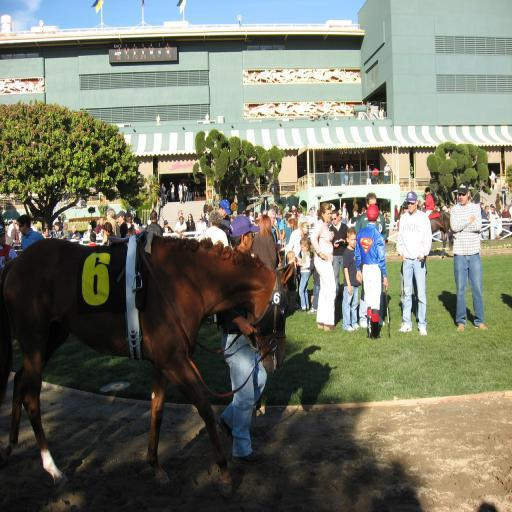Horse: (0, 229, 296, 488)
